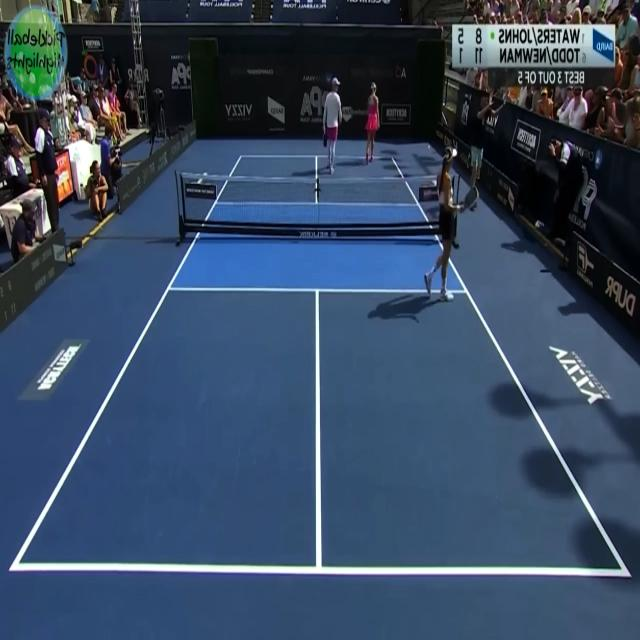Pickleball: (426, 142, 432, 150)
